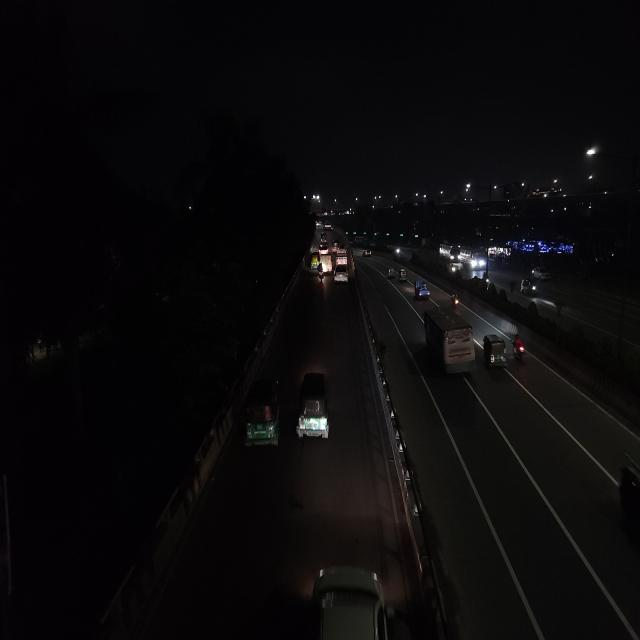bus: (419, 305, 478, 384), (459, 246, 487, 273), (439, 241, 461, 263)
car: (530, 262, 554, 282), (333, 262, 348, 284), (362, 248, 372, 259)
cng: (244, 372, 285, 456), (294, 366, 332, 446), (485, 332, 509, 373), (520, 276, 537, 298), (398, 267, 408, 286), (386, 264, 396, 281), (311, 251, 320, 269), (332, 238, 340, 254), (320, 231, 327, 244)
motorcycle: (511, 333, 526, 363), (450, 292, 460, 308), (318, 263, 324, 282)
pickup_van: (414, 276, 432, 303), (335, 248, 349, 263)
truck: (320, 252, 333, 274)
